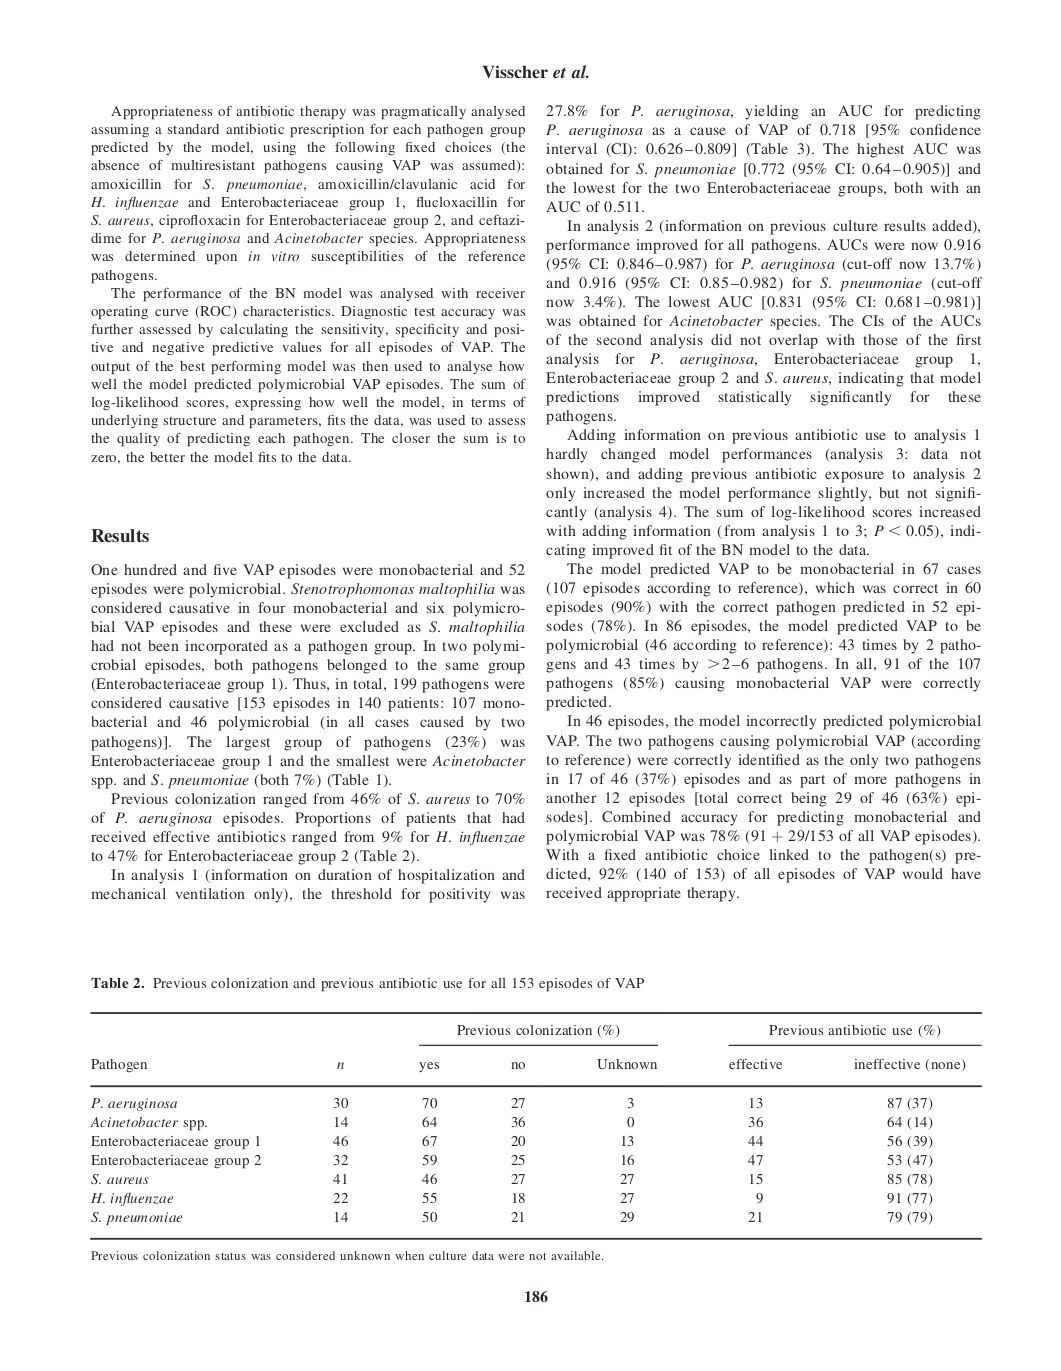Table: (90, 1012, 981, 1239)
